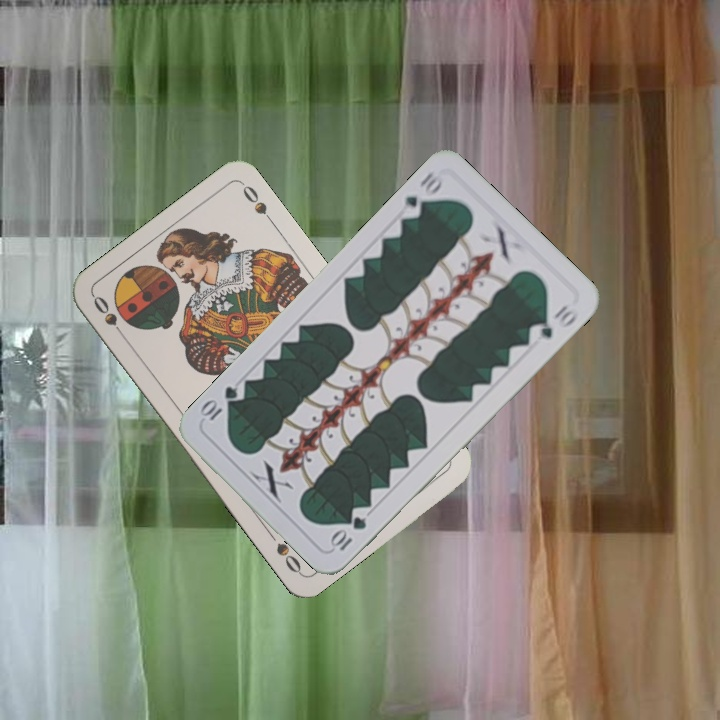G10: (396, 167, 447, 222), (326, 512, 369, 554)
SO: (89, 291, 130, 344)
